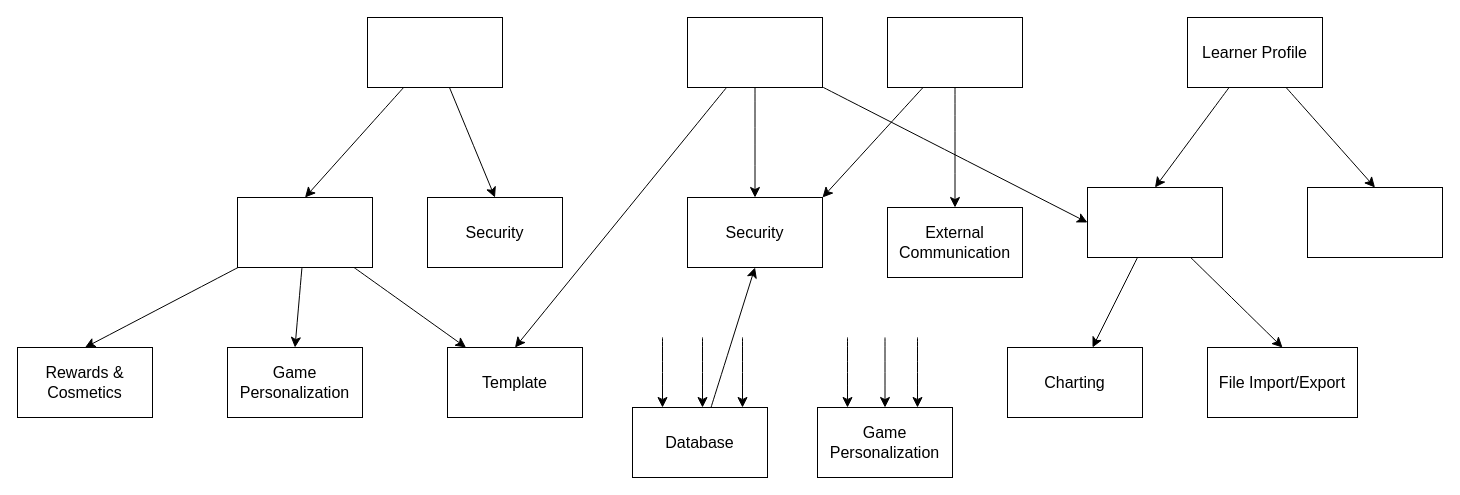
Some shapes in this 1460 by 495 pixel diagram are drawn without their labels. The shapes that lost their labels are listed below. From the top down, each one's centre as x and y in pixels, then its label:
At point 434,52: "Game Suite".
At point 754,52: "CTM Account".
At point 954,52: "Care Team".
At point 304,232: "Game Session".
At point 1154,222: "Dashboard".
At point 1374,222: "Device Pairing".
